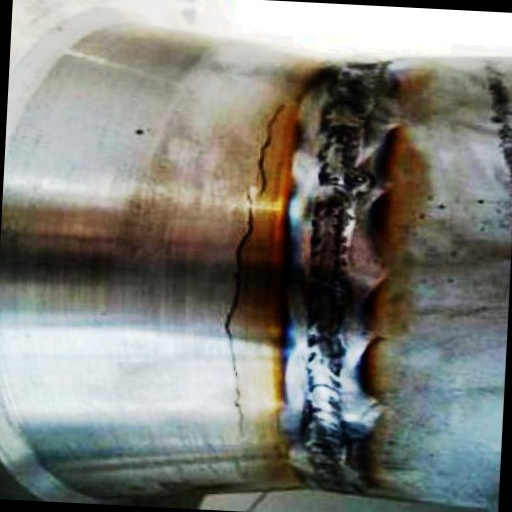crack: (192, 94, 287, 433)
